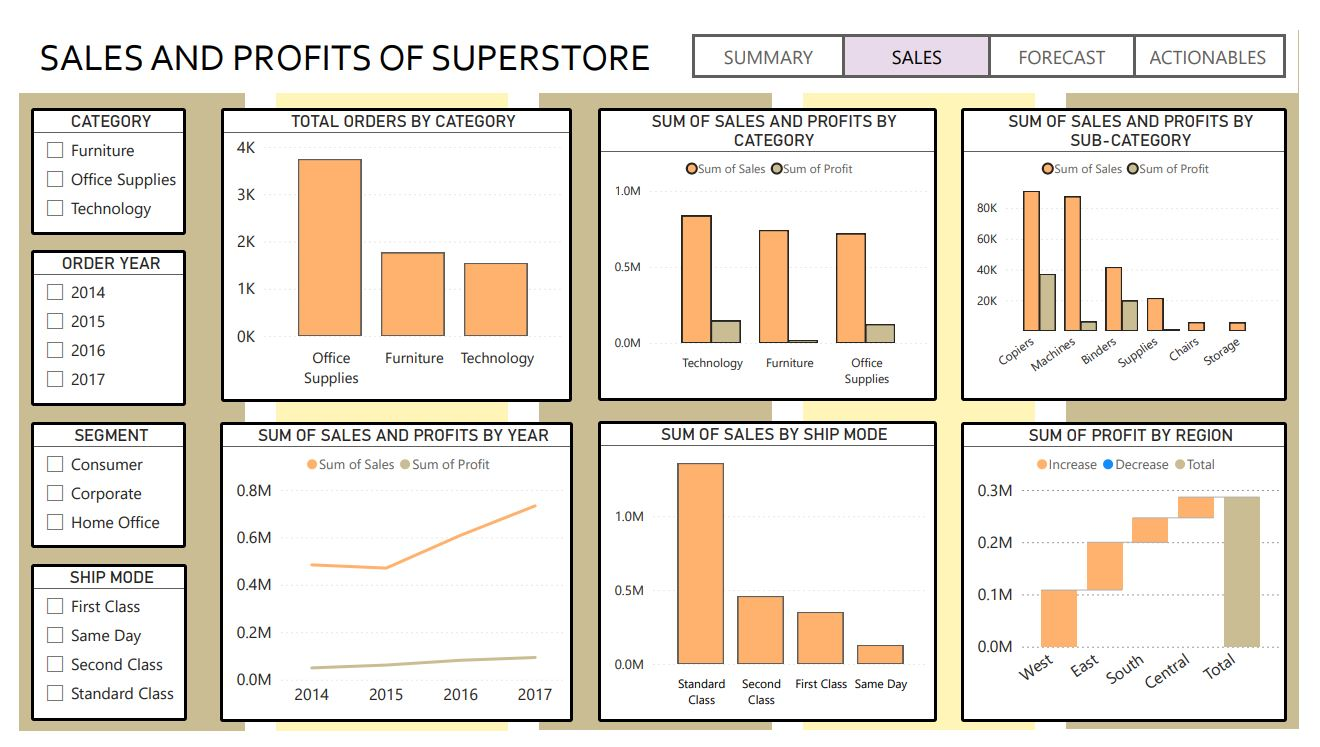

Layout of this report page (visuals, bound fields, positions):
{"tool":"powerbi","page":{"name":"Sales Analysis","canvas":[1280,720],"ordinal":1},"visuals":[{"type":"shape","box":[1046.8,10.9,233.2,699.5],"z":0},{"type":"shape","box":[784.3,10.6,231.9,700.7],"z":1000},{"type":"shape","box":[520.1,11.2,233.2,699.5],"z":2000},{"type":"shape","box":[257,10,231.9,701.9],"z":3000},{"type":"shape","box":[0,10,225.9,701.9],"z":4000},{"type":"textbox","box":[0,9.6,1279.1,64.2],"z":5000},{"type":"slicer","title":"SEGMENT","fields":{"Values":["Sheet6.Segment"]},"box":[11.8,402.9,155.6,126.2],"z":6000},{"type":"slicer","title":"CATEGORY","fields":{"Values":["Sheet6.Category"]},"box":[11.8,89.3,155.6,126.2],"z":7000},{"type":"slicer","title":"SHIP MODE","fields":{"Values":["Sheet6.Ship Mode"]},"box":[11.6,544.7,156,157.5],"z":8000},{"type":"slicer","title":"ORDER YEAR","fields":{"Values":["Sheet6.Order Year"]},"box":[11.8,231.1,155.6,156.1],"z":9000},{"type":"clusteredColumnChart","title":"SUM OF SALES AND PROFITS BY CATEGORY","fields":{"Category":["Sheet6.Category"],"Y":["Sum(Sheet6.Sales)","Sum(Sheet6.Profit)"]},"box":[578.7,89.4,339.5,292.3],"z":10000},{"type":"lineChart","title":"SUM OF SALES AND PROFITS BY  YEAR","fields":{"Y":["Sum(Sheet6.Sales)","Sum(Sheet6.Profit)"],"Category":["Sheet6.Order Year"]},"box":[200.5,403.5,354,299.6],"z":11000},{"type":"clusteredColumnChart","title":"TOTAL ORDERS BY CATEGORY","fields":{"Category":["Sheet6.Category"],"Y":["Sheet6.Total Orders"]},"box":[201.7,89.4,351.5,293.6],"z":12000},{"type":"clusteredColumnChart","title":"SUM OF SALES BY SHIP MODE","fields":{"Category":["Sheet6.Ship Mode"],"Y":["Sum(Sheet6.Sales)"]},"box":[578.7,402.3,339.5,300.8],"z":13000},{"type":"clusteredColumnChart","title":"SUM OF SALES AND PROFITS BY SUB-CATEGORY","fields":{"Y":["Sum(Sheet6.Sales)","Sum(Sheet6.Profit)"],"Category":["Sheet6.Sub-Category"]},"box":[942.3,89.4,326.2,292.3],"z":14000},{"type":"waterfallChart","title":"SUM OF PROFIT BY REGION","fields":{"Y":["Sum(Sheet6.Profit)"],"Category":["Sheet6.Region"]},"box":[942.3,403.5,326.2,299.6],"z":15000},{"type":"actionButton","box":[672.9,14.6,153.4,44.5],"z":16000},{"type":"actionButton","box":[1110.9,14.6,155.9,44.5],"z":17000},{"type":"actionButton","box":[822.7,14.6,150.6,44.5],"z":18000},{"type":"actionButton","box":[969.2,14.6,147.4,44.5],"z":19000}]}

Visuals, with their boxes in screenshot pixels (x1, y1, x2, y2), scaled from the page's 1280x720 canvas onto the 1320x747 screenshot:
shape: left=1080, top=11, right=1319, bottom=737
shape: left=809, top=11, right=1048, bottom=738
shape: left=536, top=12, right=777, bottom=737
shape: left=265, top=10, right=504, bottom=739
shape: left=0, top=10, right=233, bottom=739
textbox: left=0, top=10, right=1319, bottom=77
"SEGMENT" slicer: left=12, top=418, right=173, bottom=549
"CATEGORY" slicer: left=12, top=93, right=173, bottom=224
"SHIP MODE" slicer: left=12, top=565, right=173, bottom=729
"ORDER YEAR" slicer: left=12, top=240, right=173, bottom=402
"SUM OF SALES AND PROFITS BY CATEGORY" clusteredColumnChart: left=597, top=93, right=947, bottom=396
"SUM OF SALES AND PROFITS BY  YEAR" lineChart: left=207, top=419, right=572, bottom=729
"TOTAL ORDERS BY CATEGORY" clusteredColumnChart: left=208, top=93, right=570, bottom=397
"SUM OF SALES BY SHIP MODE" clusteredColumnChart: left=597, top=417, right=947, bottom=729
"SUM OF SALES AND PROFITS BY SUB-CATEGORY" clusteredColumnChart: left=972, top=93, right=1308, bottom=396
"SUM OF PROFIT BY REGION" waterfallChart: left=972, top=419, right=1308, bottom=729
actionButton: left=694, top=15, right=852, bottom=61
actionButton: left=1146, top=15, right=1306, bottom=61
actionButton: left=848, top=15, right=1004, bottom=61
actionButton: left=999, top=15, right=1151, bottom=61
